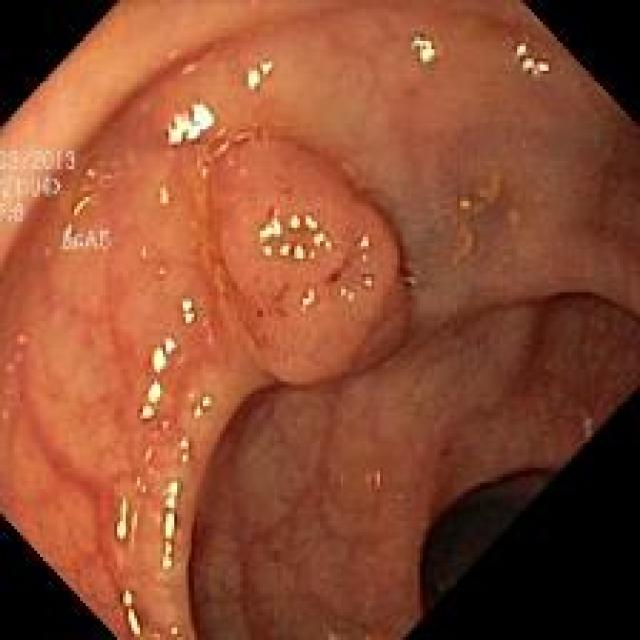Polyps: (205, 133, 409, 385)
